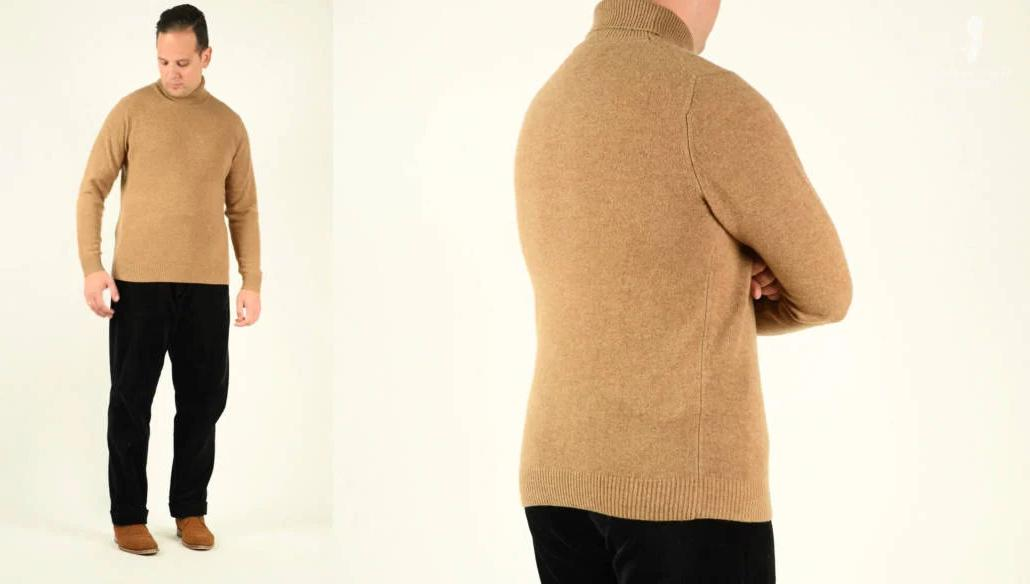sweater: (510, 3, 858, 524), (76, 75, 263, 291)
trousers: (107, 276, 234, 529), (525, 504, 778, 584)
